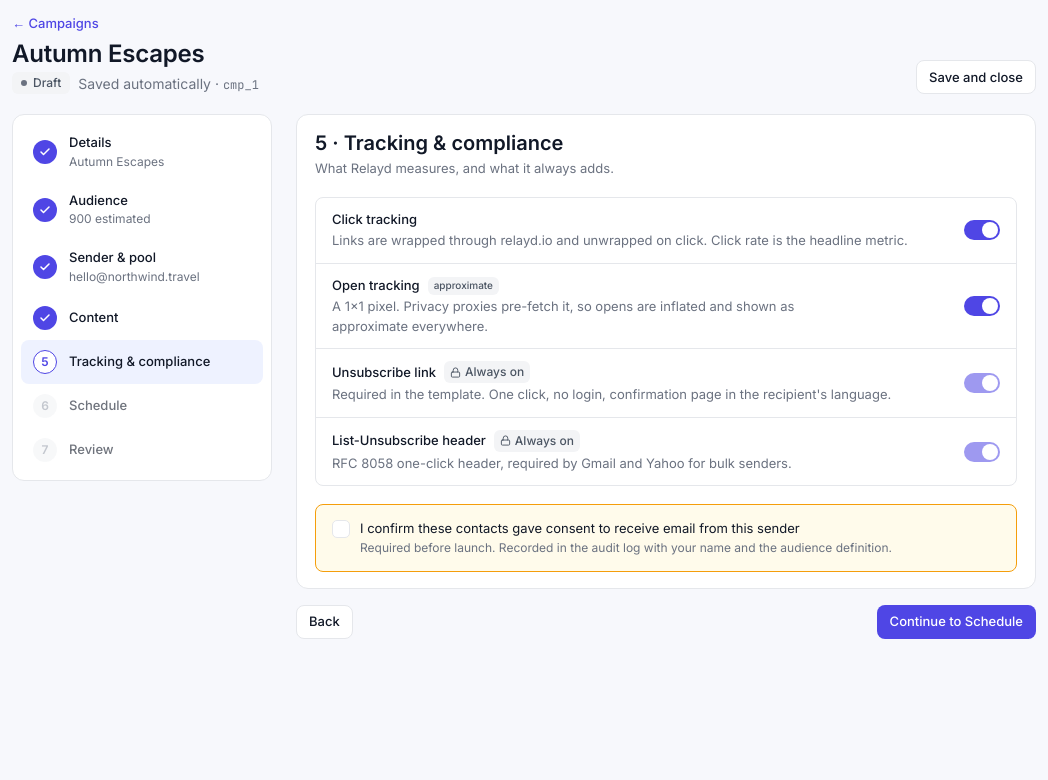
Test case: the campaign wizard (G2) › asks for a declared consent source once the box is ticked
The image size is (1048, 780).
Expected: the field labelled "Where did this audience agree" is not shown
Click the checkbox labelled "I confirm these contacts gave consent" at [612, 538], box [332,520,892,555]
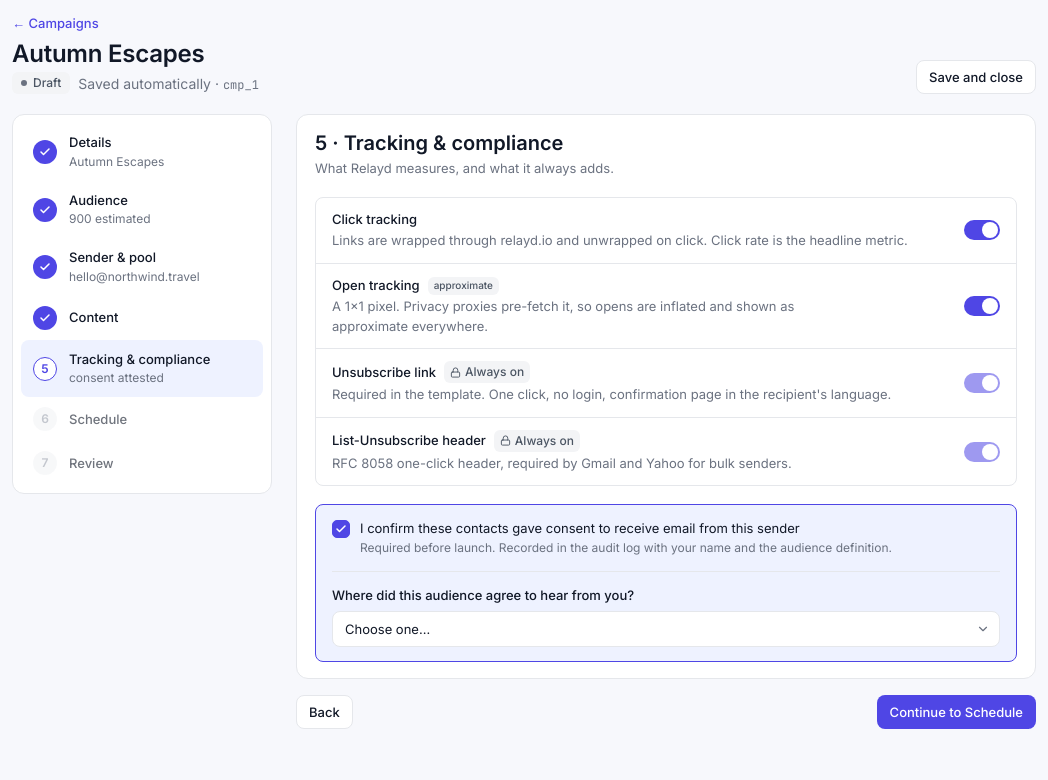
Now the dropdown labelled "Where did this audience agree to hear from you?" is shown, box [332,611,1000,647]
